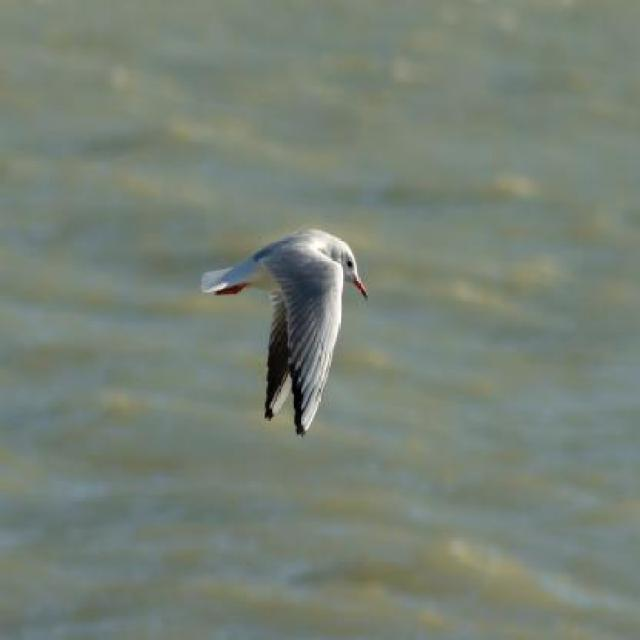bird: (202, 229, 370, 437)
